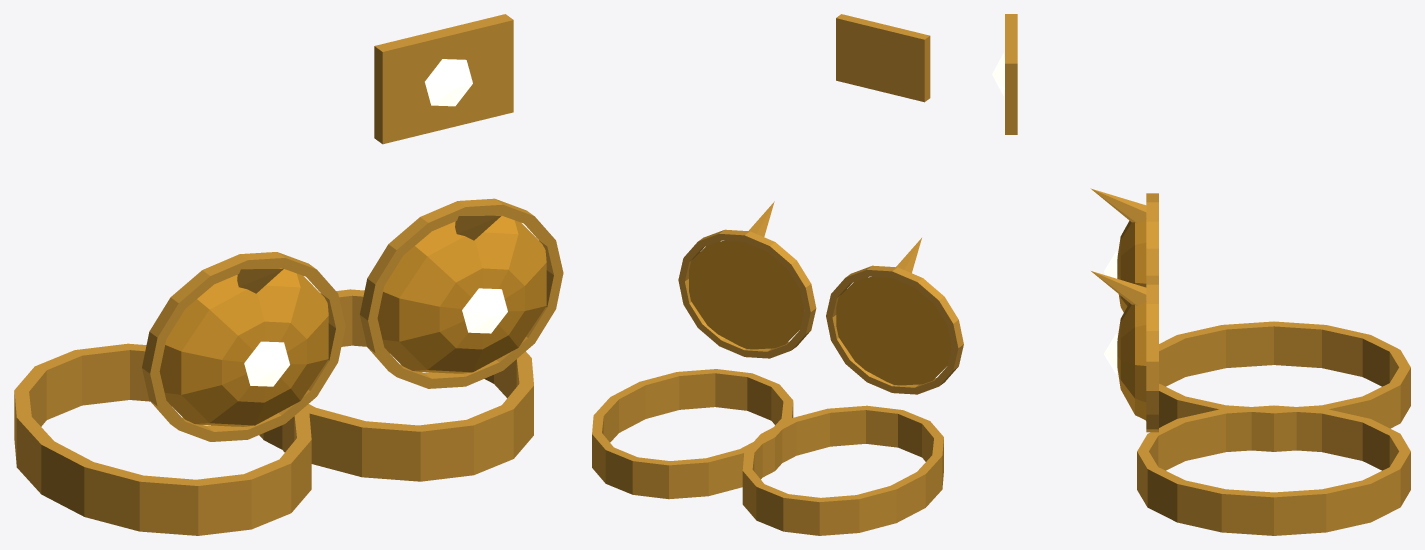
File: armor_guard_legs_legendary_human.glb
The picture shows the model from 3 angles, left to right: view 1: azimuth 30°, elevation 25°; view 2: azimuth 150°, elevation 25°; view 3: azimuth 270°, elevation 25°; orthographic projection. The views are drawn at different scales.
Visible parts, largest first — view 1: armor_guard_legs_legendary_human__calf_r, armor_guard_legs_legendary_human__calf_l, armor_guard_legs_legendary_human__pelvis; view 2: armor_guard_legs_legendary_human__calf_r, armor_guard_legs_legendary_human__calf_l, armor_guard_legs_legendary_human__pelvis; view 3: armor_guard_legs_legendary_human__calf_l, armor_guard_legs_legendary_human__calf_r, armor_guard_legs_legendary_human__pelvis.
Boxes of the visible parts, x1,y1,x2,y2 form: armor_guard_legs_legendary_human__calf_r: [14, 252, 345, 535]; armor_guard_legs_legendary_human__calf_l: [259, 198, 563, 481]; armor_guard_legs_legendary_human__pelvis: [374, 14, 513, 144]; armor_guard_legs_legendary_human__calf_r: [742, 238, 963, 535]; armor_guard_legs_legendary_human__calf_l: [592, 201, 816, 499]; armor_guard_legs_legendary_human__pelvis: [836, 14, 930, 102]; armor_guard_legs_legendary_human__calf_l: [1091, 271, 1410, 535]; armor_guard_legs_legendary_human__calf_r: [1090, 188, 1410, 451]; armor_guard_legs_legendary_human__pelvis: [992, 14, 1017, 134].
Size of the model in its own units: 39.07 by 42.4 by 39.32.
